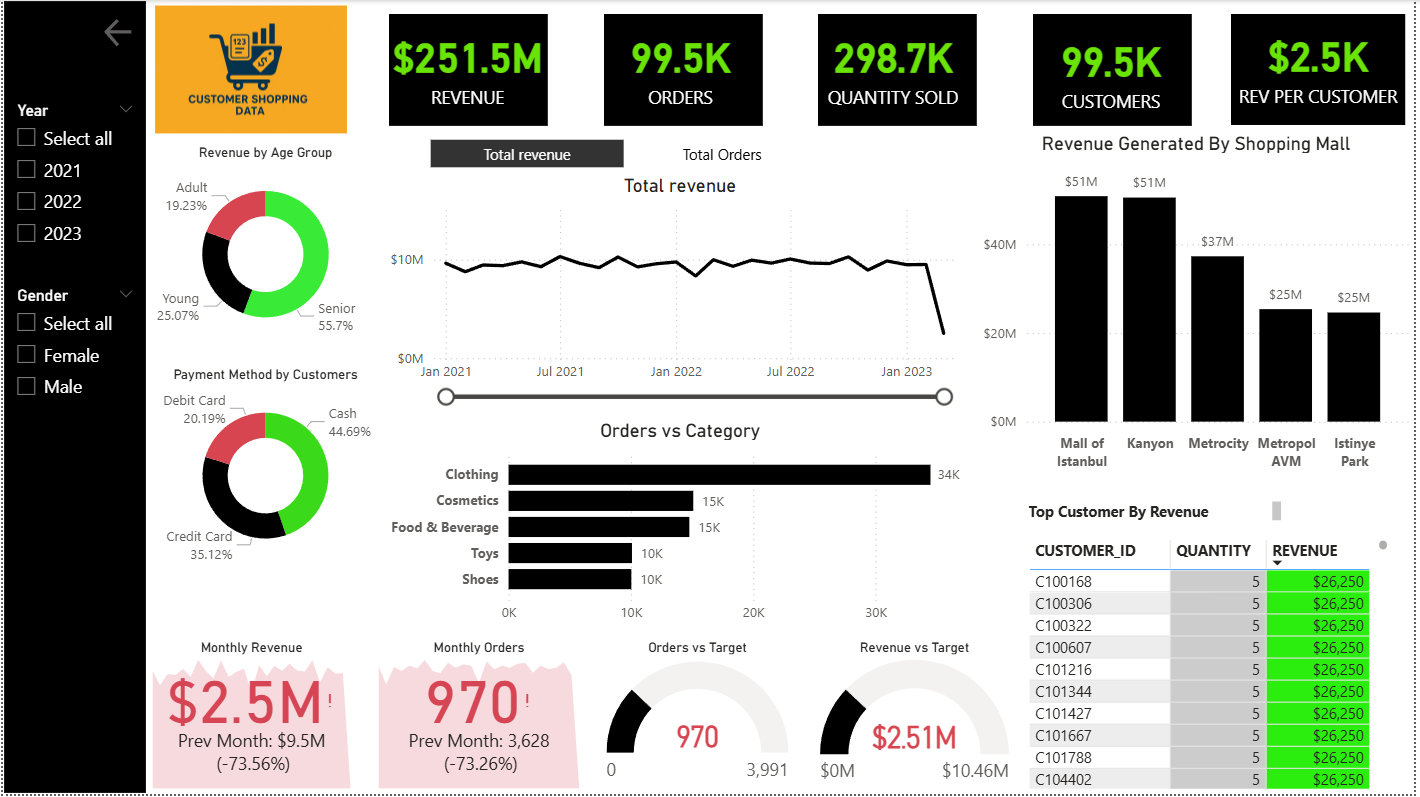

Layout of this report page (visuals, bound fields, positions):
{"tool":"powerbi","page":{"name":"Page 2","canvas":[1280,720],"ordinal":0},"visuals":[{"type":"clusteredBarChart","title":"Orders vs Category","fields":{"Category":["customer_shopping_data.category"],"Y":["Measure.Total Orders"]},"box":[345.7,380,537.2,193.5],"z":0},{"type":"lineChart","fields":{"Y":["Measure.Total revenue"],"Category":["DateTable.StartOfWeek","DateTable.StartOfMonth","DateTable.Year"]},"box":[345.5,157.8,536.8,213.1],"z":1000},{"type":"shape","box":[350,12.7,144.2,101.6],"z":2000},{"type":"slicer","fields":{"Values":["Parameter.Parameter"]},"box":[361.8,119.7,401.7,31.7],"z":3000},{"type":"shape","box":[0,0,130.6,720],"z":4000},{"type":"donutChart","title":"Revenue by Age Group","fields":{"Y":["Measure.Total revenue"],"Category":["customer_shopping_data.Age Category"]},"box":[130.6,131.5,214.9,185],"z":5000},{"type":"kpi","title":"Monthly Revenue","fields":{"Indicator":["Measure.Total revenue"],"TrendLine":["DateTable.StartOfMonth"],"Goal":["Measure.Previous Month Revenue"]},"box":[130.6,580.4,189.5,139.6],"z":6000},{"type":"kpi","title":"Monthly Orders","fields":{"TrendLine":["DateTable.StartOfMonth"],"Goal":["Measure.Previous Month Orders"],"Indicator":["Measure.Total Orders"]},"box":[335.5,580.4,192.2,139.6],"z":7000},{"type":"tableEx","fields":{"Values":["customer_shopping_data.customer_id","Measure.Total Quantity","Measure.Total revenue"]},"box":[924.9,484.2,336.4,235.8],"z":8000},{"type":"textbox","box":[924.9,449.8,239.4,34.5],"z":9000},{"type":"gauge","title":"Orders vs Target","fields":{"Y":["Measure.Total Orders"],"MaxValue":["Measure.Orders Target"]},"box":[542.3,580.4,175,139.6],"z":10000},{"type":"gauge","title":" Revenue vs Target","fields":{"MaxValue":["Measure.Revenue Target"],"Y":["Measure.Total revenue"]},"box":[732.7,580.4,187.7,139.6],"z":11000},{"type":"donutChart","title":"Payment Method by Customers","fields":{"Category":["customer_shopping_data.payment_method"],"Y":["Measure.Total Customers"]},"box":[130.6,332.8,214.9,184.1],"z":12000},{"type":"slicer","fields":{"Values":["DateTable.Year"]},"box":[0,87.1,130.6,160.5],"z":14000},{"type":"slicer","fields":{"Values":["customer_shopping_data.gender"]},"box":[0,254.8,130.6,135.1],"z":15000},{"type":"image","box":[107.9,0,234.9,126],"z":16000},{"type":"shape","box":[544.5,12.7,144.2,101.6],"z":17000},{"type":"shape","box":[739,12.7,144.2,101.6],"z":18000},{"type":"shape","box":[933.6,12.7,144.2,101.6],"z":19000},{"type":"shape","box":[1113.7,13.1,158.2,100.8],"z":20000},{"type":"card","fields":{"Values":["Measure.Total Customers"]},"box":[903.2,7.3,204,112.4],"z":21000},{"type":"card","fields":{"Values":["Measure.Total Quantity"]},"box":[705.5,3.6,204,112.4],"z":22000},{"type":"card","fields":{"Values":["Measure.Total Orders"]},"box":[512.3,3.6,204.9,112.4],"z":23000},{"type":"card","fields":{"Values":["Measure.Total revenue"]},"box":[321.9,3.6,199.5,112.4],"z":24000},{"type":"card","fields":{"Values":["Measure.Revenue per Customer"]},"box":[1113.7,3,158.2,111.9],"z":25000},{"type":"clusteredColumnChart","title":"Revenue Generated By Shopping Mall","fields":{"Category":["customer_shopping_data.shopping_mall"],"Y":["Measure.Total revenue"]},"box":[883.2,119.7,397.2,313.8],"z":26000},{"type":"actionButton","box":[88,12.7,42.6,34.5],"z":26001}]}

Visuals, with their boxes in screenshot pixels (x1, y1, x2, y2):
"Orders vs Category" clusteredBarChart: 388:424:998:643
lineChart - Measure.Total revenue x DateTable.StartOfWeek: 388:172:997:413
shape: 393:7:557:122
slicer - Parameter.Parameter: 407:128:862:164
shape: 0:0:144:796
"Revenue by Age Group" donutChart: 144:142:388:352
"Monthly Revenue" kpi: 144:651:359:796
"Monthly Orders" kpi: 377:651:595:796
tableEx - customer_shopping_data.customer_id x Measure.Total Quantity: 1045:542:1419:796
textbox: 1045:503:1317:542
"Orders vs Target" gauge: 611:651:810:796
" Revenue vs Target" gauge: 827:651:1040:796
"Payment Method by Customers" donutChart: 144:370:388:579
slicer - DateTable.Year: 0:91:144:273
slicer - customer_shopping_data.gender: 0:282:144:435
image: 119:0:385:136
shape: 614:7:777:122
shape: 835:7:998:122
shape: 1055:7:1219:122
shape: 1260:7:1419:122
card - Measure.Total Customers: 1021:1:1252:128
card - Measure.Total Quantity: 797:0:1028:124
card - Measure.Total Orders: 577:0:810:124
card - Measure.Total revenue: 361:0:588:124
card - Measure.Revenue per Customer: 1260:0:1419:123
"Revenue Generated By Shopping Mall" clusteredColumnChart: 998:128:1419:484
actionButton: 96:7:144:46
